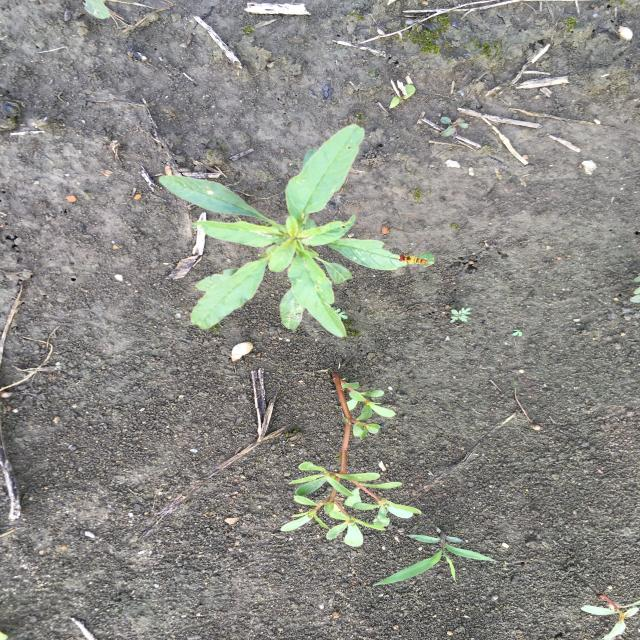Purslane: (278, 371, 424, 548)
Waterhemp: (158, 123, 438, 340), (578, 591, 637, 639)
